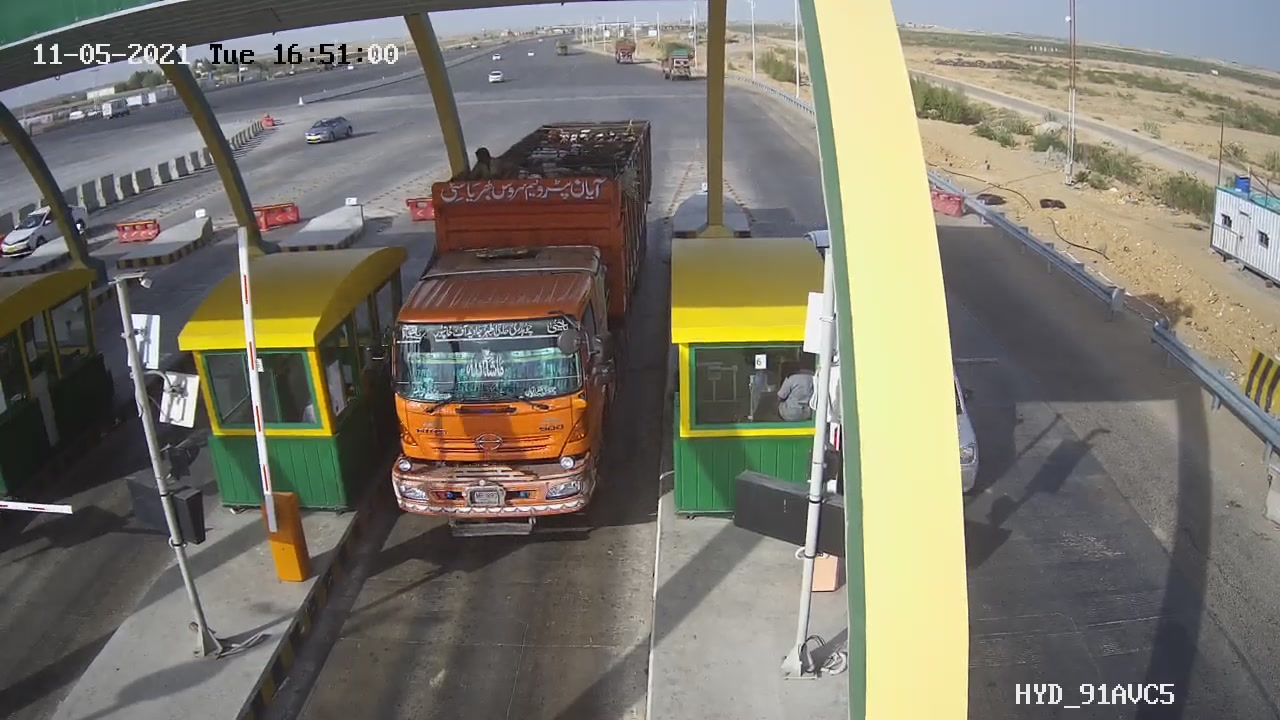F6: (361, 105, 674, 569)
